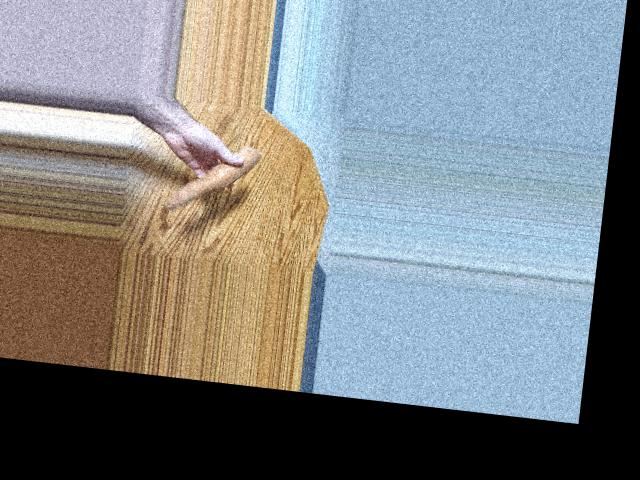sweet_potato: (166, 136, 254, 215)
